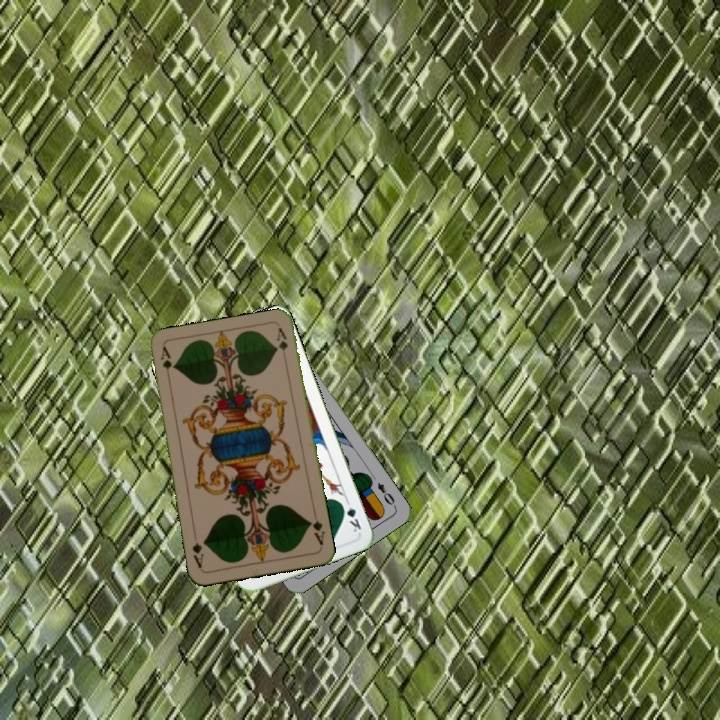EO: (373, 478, 399, 510)
GA: (305, 509, 327, 548), (156, 343, 175, 384)
GK: (337, 496, 364, 535)
